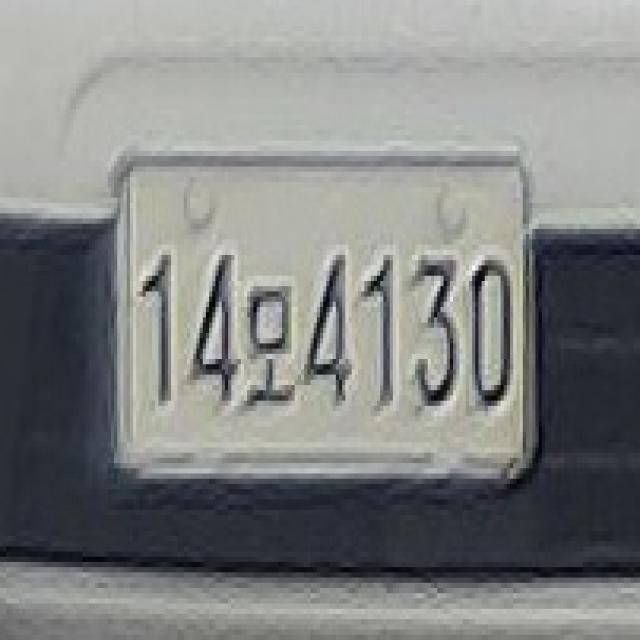0: (462, 244, 520, 426)
1: (355, 239, 409, 416), (136, 239, 187, 422)
3: (408, 229, 462, 437)
4: (190, 239, 244, 427), (304, 239, 358, 411)
license_plate: (104, 141, 542, 489)
mo: (241, 270, 301, 422)
